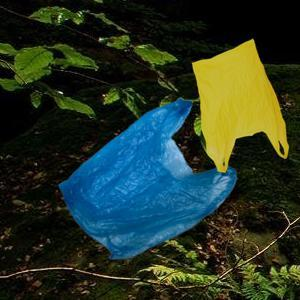plastic_bag: (55, 97, 239, 262), (192, 35, 291, 177)
